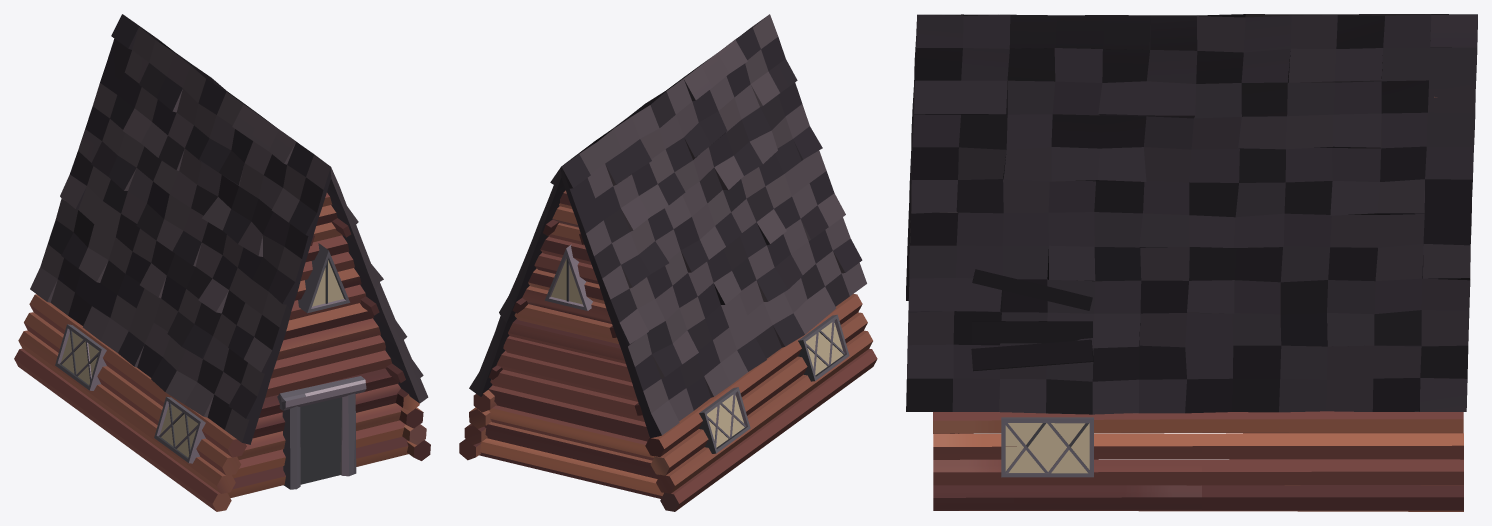
File: F_Chata_02.fbx
3 views of the same model, side by side, from view 1: azimuth 30°, elevation 25°; view 2: azimuth 150°, elevation 25°; view 3: azimuth 270°, elevation 25° (orthographic). The views are drawn at different scales.
Parts seen in each view (by area): view 1: F_domek_02; view 2: F_domek_02; view 3: F_domek_02.
Part boxes in pixels (x1,y1,x2,y2): F_domek_02: (14,14,430,511); F_domek_02: (459,14,877,511); F_domek_02: (906,14,1477,511).
Size of the model in its own units: 184 by 258 by 308.
